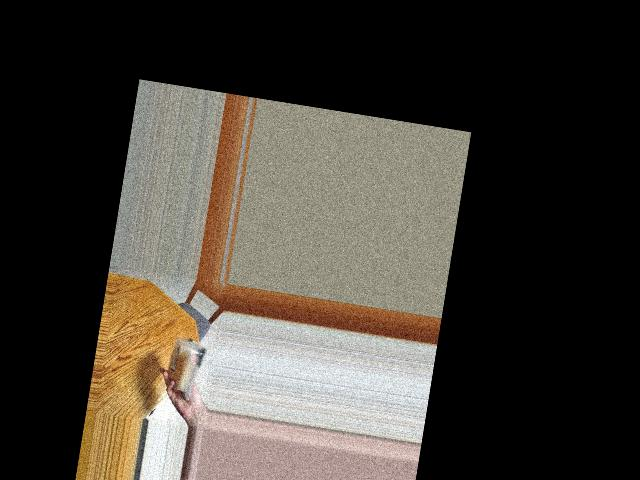cheese: (166, 340, 203, 390)
